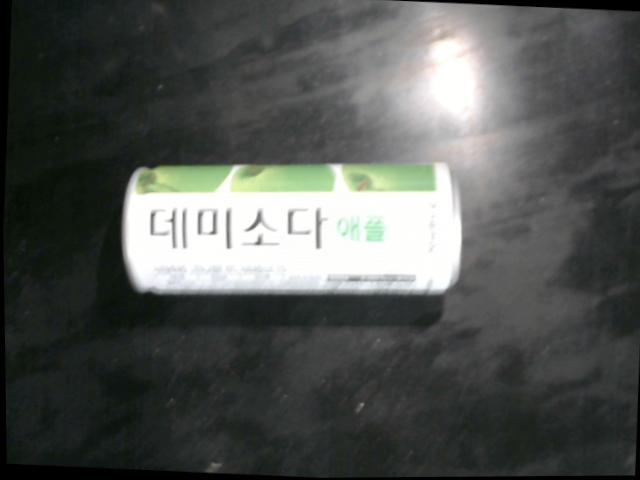can: (119, 161, 463, 297)
